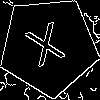X: (23, 21, 72, 77)
